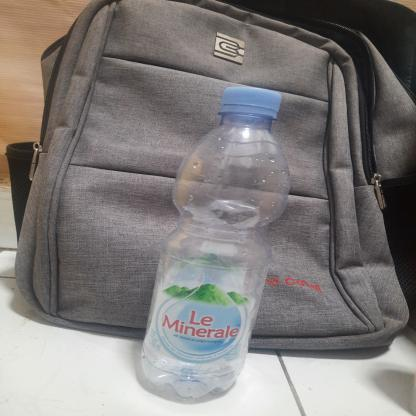plastic: (128, 82, 296, 407)
